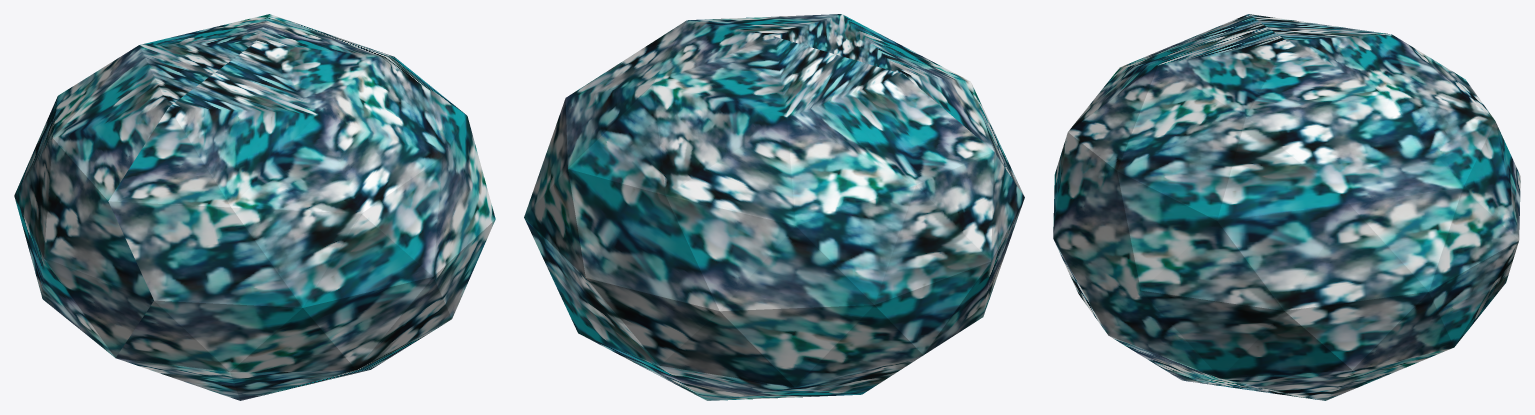
Rendered from Island_2_BlueLeaf_2.gltf.
3 views of the same model, side by side, from view 1: azimuth 30°, elevation 25°; view 2: azimuth 150°, elevation 25°; view 3: azimuth 270°, elevation 25° (orthographic). The views are drawn at different scales.
Visible parts, largest first — view 1: Island_2_BlueLeaf_2; view 2: Island_2_BlueLeaf_2; view 3: Island_2_BlueLeaf_2.
Part boxes in pixels (x1=…): Island_2_BlueLeaf_2: x1=14, y1=14, x2=495, y2=400; Island_2_BlueLeaf_2: x1=524, y1=14, x2=1024, y2=400; Island_2_BlueLeaf_2: x1=1053, y1=14, x2=1520, y2=400.
Bounding box in the file's own units: 0.3764 × 0.2821 × 0.3592.
Materials: 1 (1 with a texture image).
